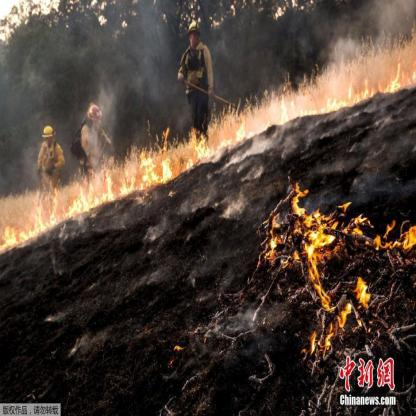fire: (0, 34, 414, 246), (257, 187, 415, 357)
other: (170, 16, 214, 116), (77, 100, 107, 166), (35, 119, 63, 185)
